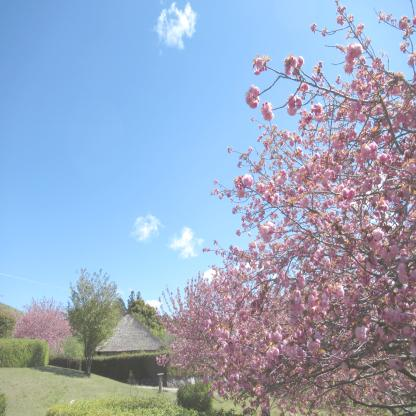YaeSakura: (155, 0, 416, 416), (11, 293, 70, 363)
